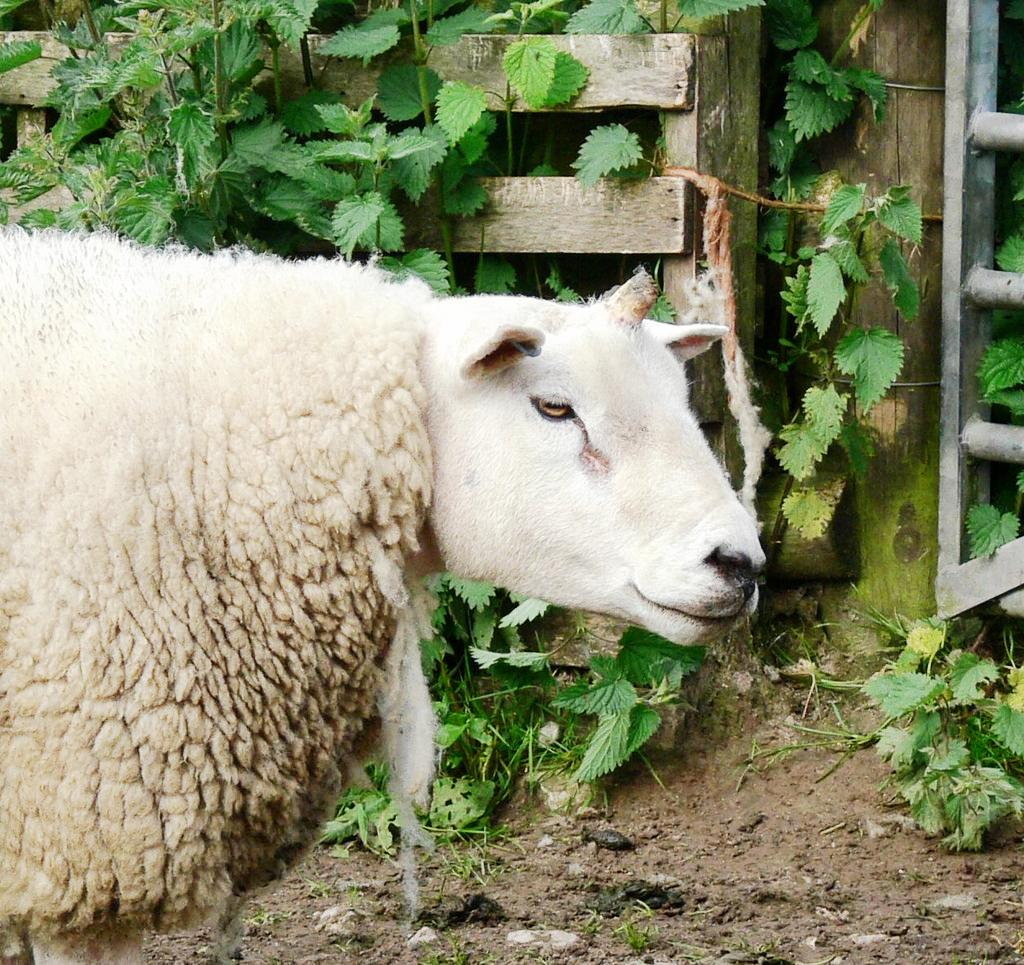Sheep: (0, 223, 772, 964)
